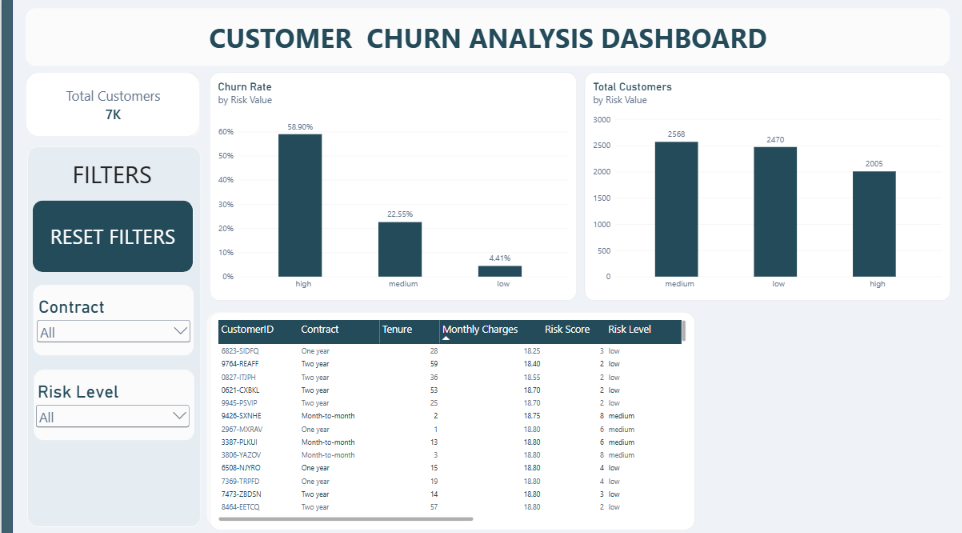

What the dashboard file says about the page in this screenshot:
{"tool":"powerbi","page":{"name":"Risk Analysis","canvas":[1920,1080],"ordinal":1},"visuals":[{"type":"cardVisual","fields":{"Data":["telco_scored.total_customers"]},"box":[48.3,148.3,348.3,128.3],"z":0},{"type":"actionButton","box":[62,404,320.8,143.3],"z":1000},{"type":"textbox","box":[47.5,42.5,1850,92.5],"z":2000},{"type":"textbox","box":[48,318,346,86],"z":3000},{"type":"slicer","fields":{"Values":["telco_scored.Contract"]},"box":[66,596,316,94],"z":4000},{"type":"slicer","fields":{"Values":["telco_scored.risk_level"]},"box":[64,766,316,100],"z":5000},{"type":"clusteredColumnChart","fields":{"Category":["telco_scored.risk_level"],"Y":["telco_scored.churn_rate"]},"box":[415.6,148.9,734.4,456.7],"z":6000},{"type":"clusteredColumnChart","fields":{"Category":["telco_scored.risk_level"],"Y":["telco_scored.total_customers"]},"box":[1166.7,148.3,731.7,456.7],"z":7000},{"type":"tableEx","fields":{"Values":["telco_scored.customerID","telco_scored.Contract","telco_scored.tenure","telco_scored.MonthlyCharges","telco_scored.risk_score","telco_scored.risk_level"]},"box":[415,628.3,970,435],"z":8000}]}

Visuals, with their boxes in screenshot pixels (x1, y1, x2, y2), scaled from the page's 1920x1080 canvas onto the 962x533 screenshot:
cardVisual - telco_scored.total_customers: [x1=24, y1=73, x2=199, y2=137]
actionButton: [x1=31, y1=199, x2=192, y2=270]
textbox: [x1=24, y1=21, x2=951, y2=67]
textbox: [x1=24, y1=157, x2=197, y2=199]
slicer - telco_scored.Contract: [x1=33, y1=294, x2=191, y2=341]
slicer - telco_scored.risk_level: [x1=32, y1=378, x2=190, y2=427]
clusteredColumnChart - telco_scored.risk_level x telco_scored.churn_rate: [x1=208, y1=73, x2=576, y2=299]
clusteredColumnChart - telco_scored.risk_level x telco_scored.total_customers: [x1=585, y1=73, x2=951, y2=299]
tableEx - telco_scored.customerID x telco_scored.Contract: [x1=208, y1=310, x2=694, y2=525]
